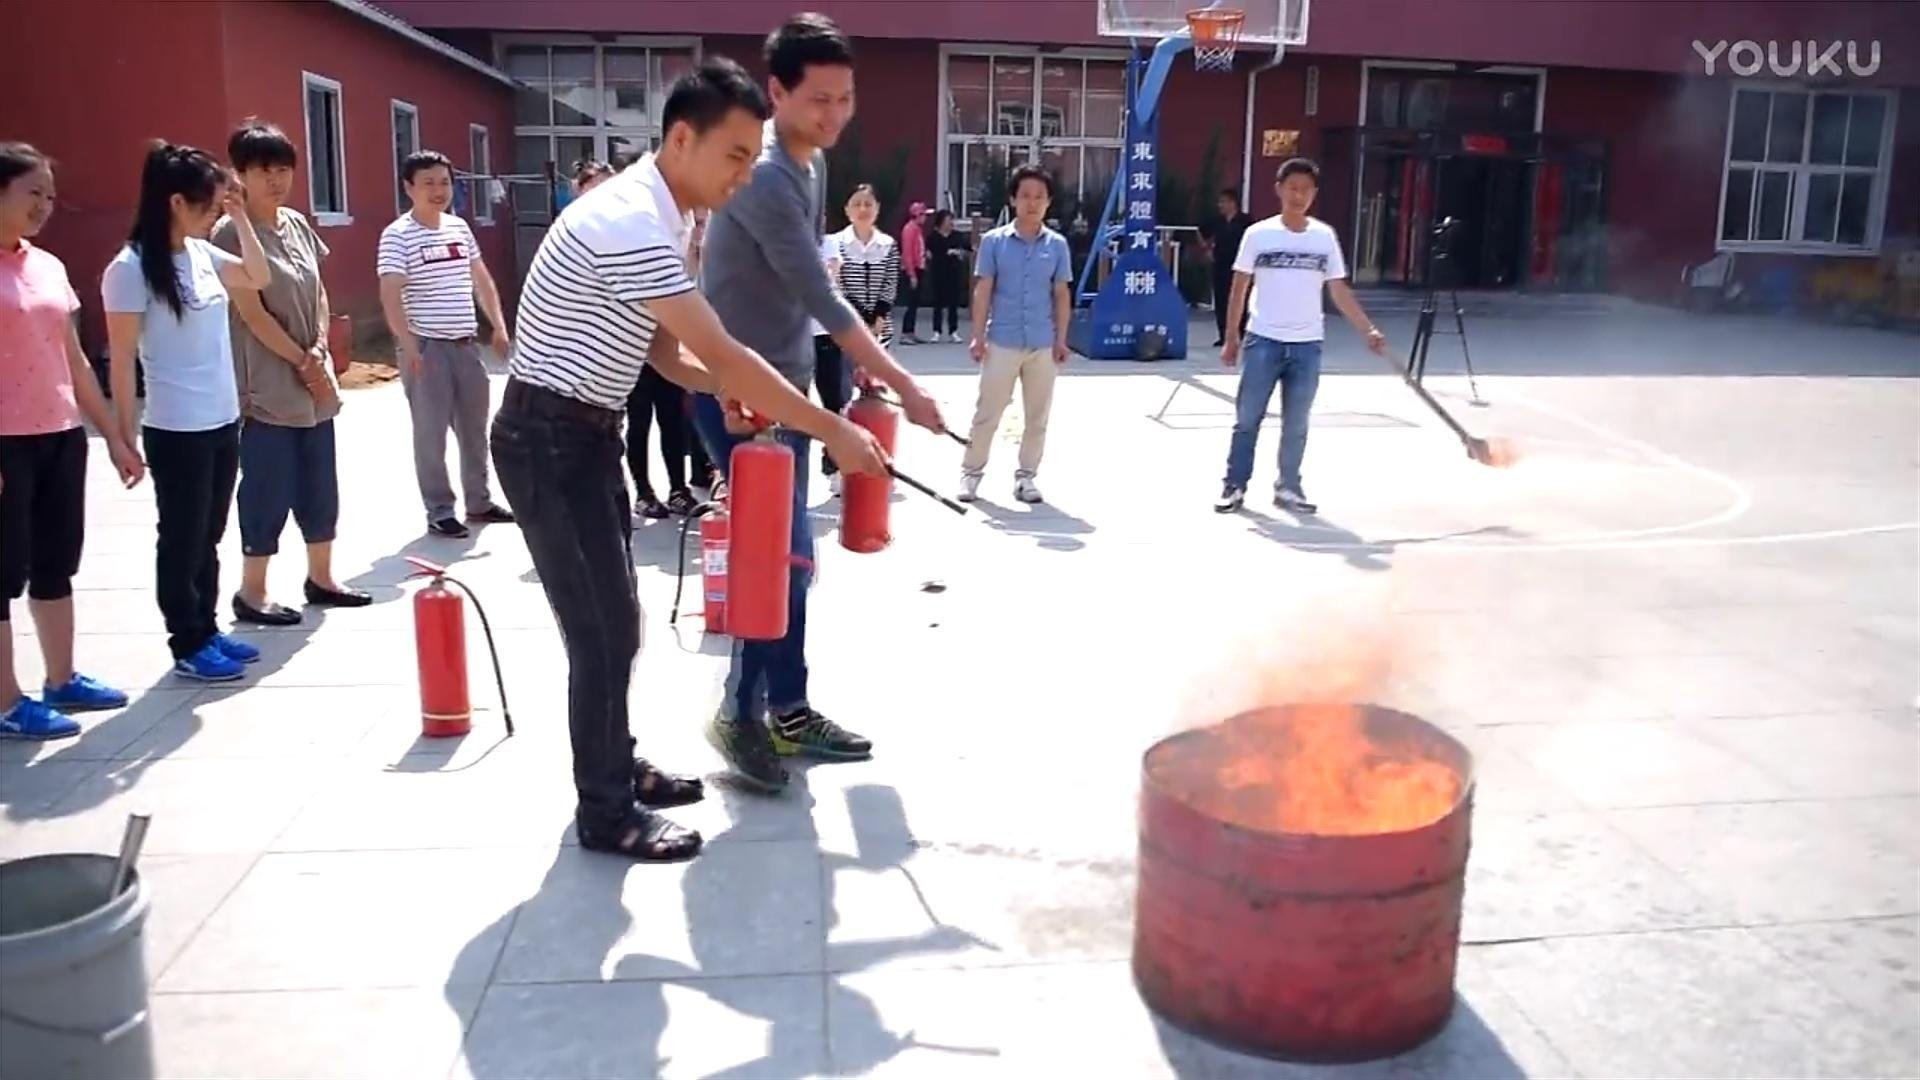fire: (1185, 611, 1468, 833)
